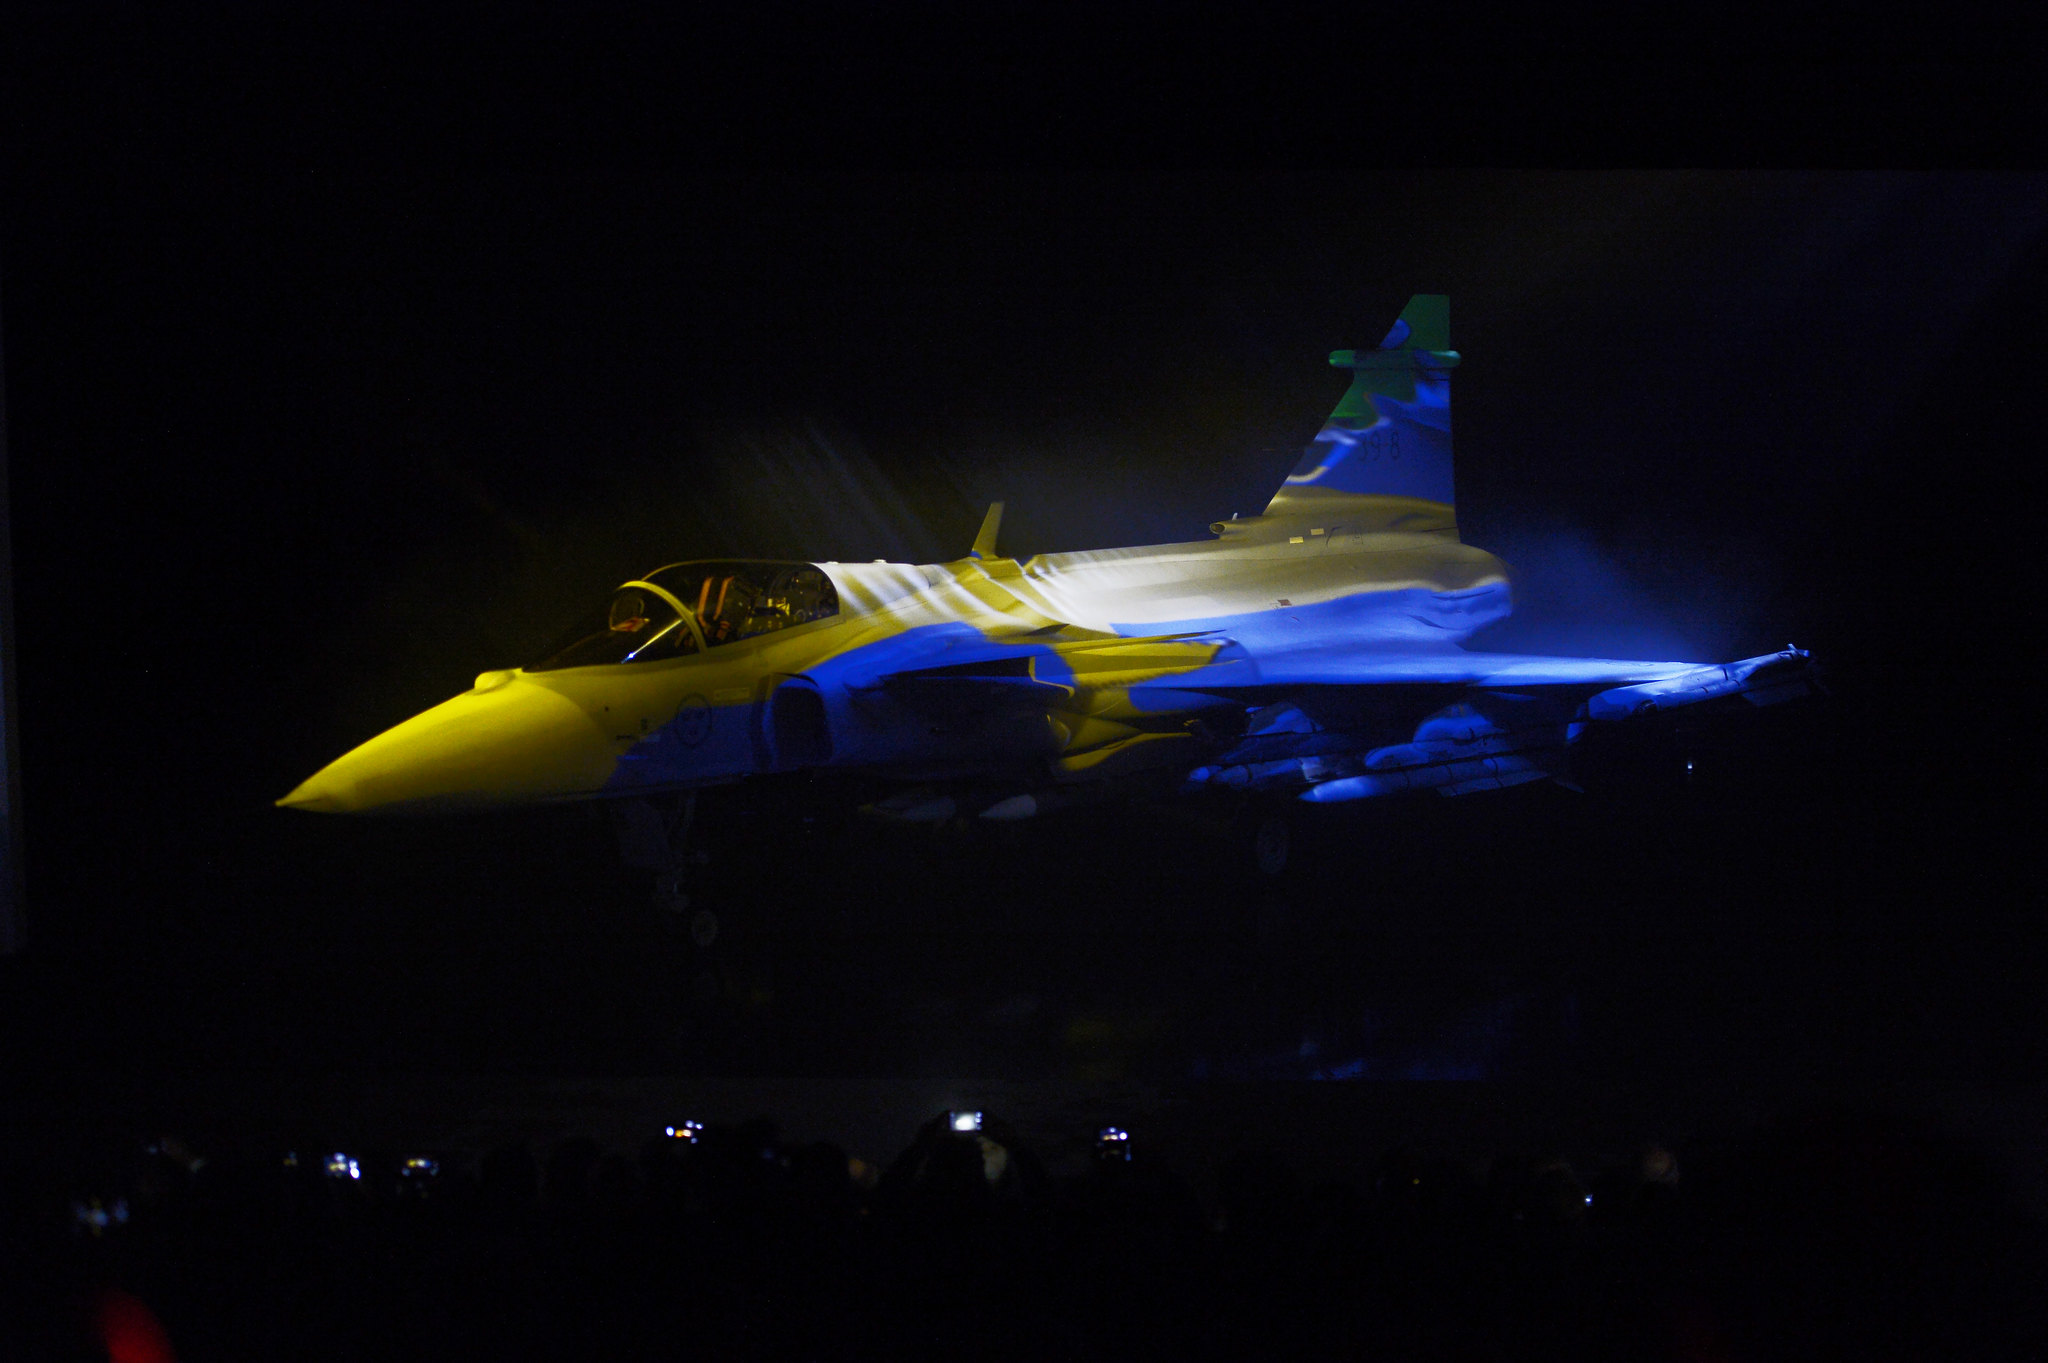JAS39: (274, 294, 1831, 958)
